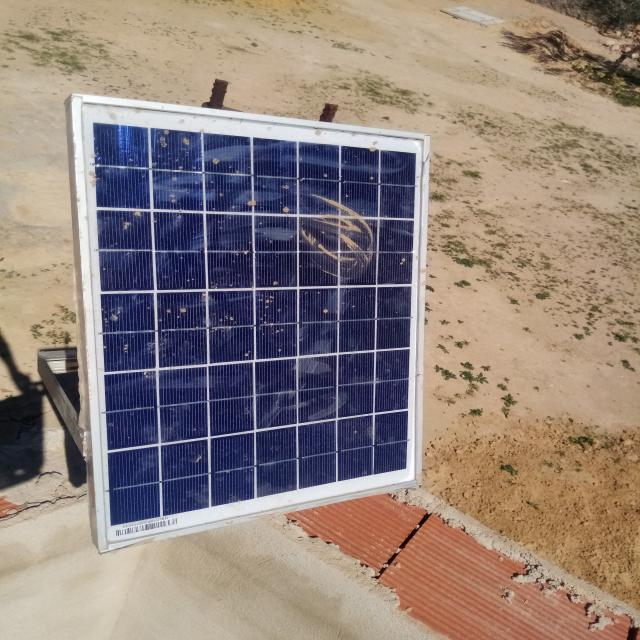faulty: (80, 102, 429, 552)
